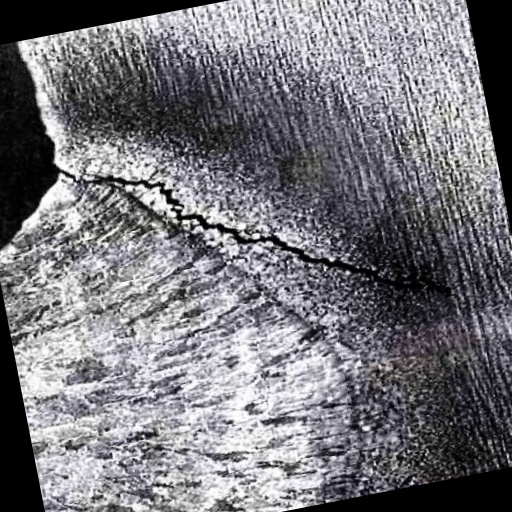crack: (42, 91, 462, 380)
